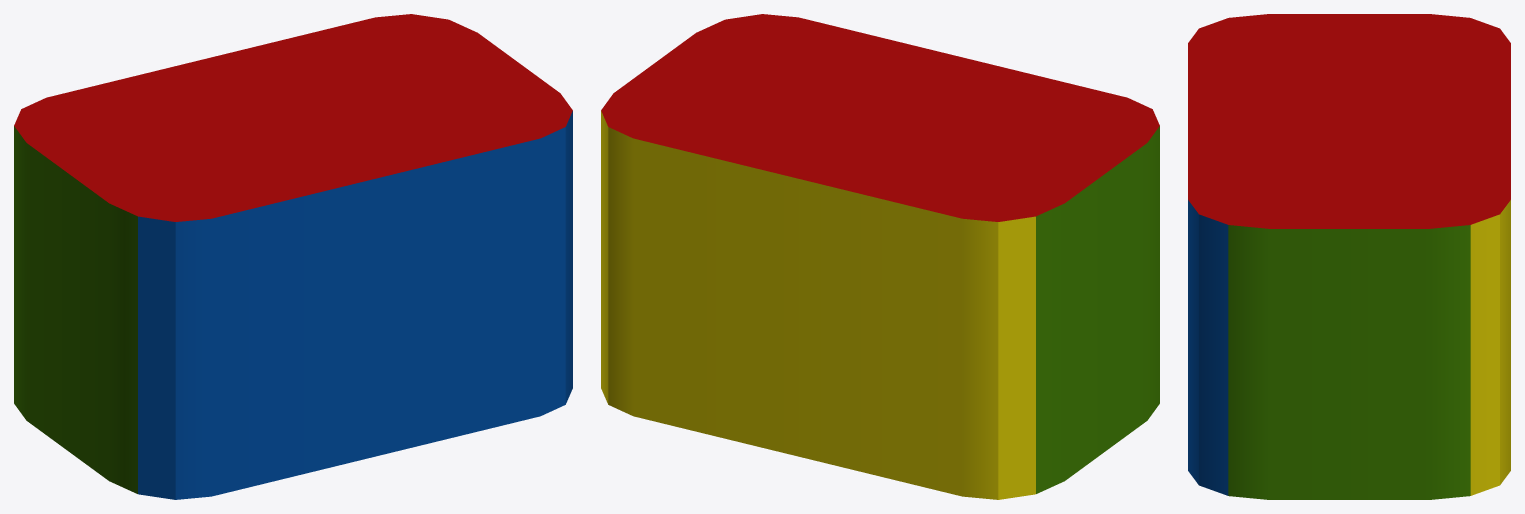
Rendered from Jump obstacle 2.fbx.
3 views of the same model, side by side, from view 1: azimuth 30°, elevation 25°; view 2: azimuth 150°, elevation 25°; view 3: azimuth 270°, elevation 25° (orthographic). The views are drawn at different scales.
Parts seen in each view (by area): view 1: Jump_2; view 2: Jump_2; view 3: Jump_2.
Boxes of the visible parts, bbox=[...] form: Jump_2: bbox=[14, 14, 572, 499]; Jump_2: bbox=[601, 14, 1159, 499]; Jump_2: bbox=[1188, 14, 1510, 499].
Size of the model in its own units: 16.64 by 9.79 by 10.56.
